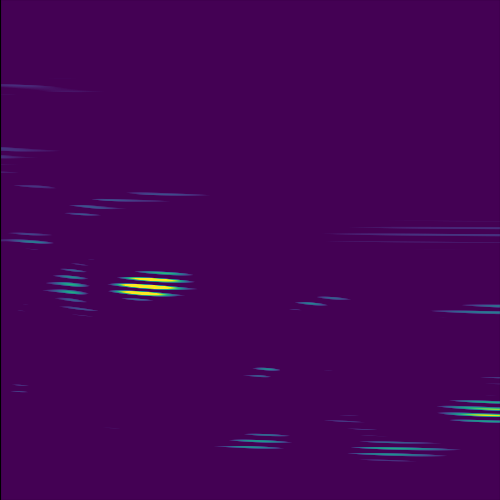semblance: (104, 266, 200, 304), (441, 394, 500, 426)
